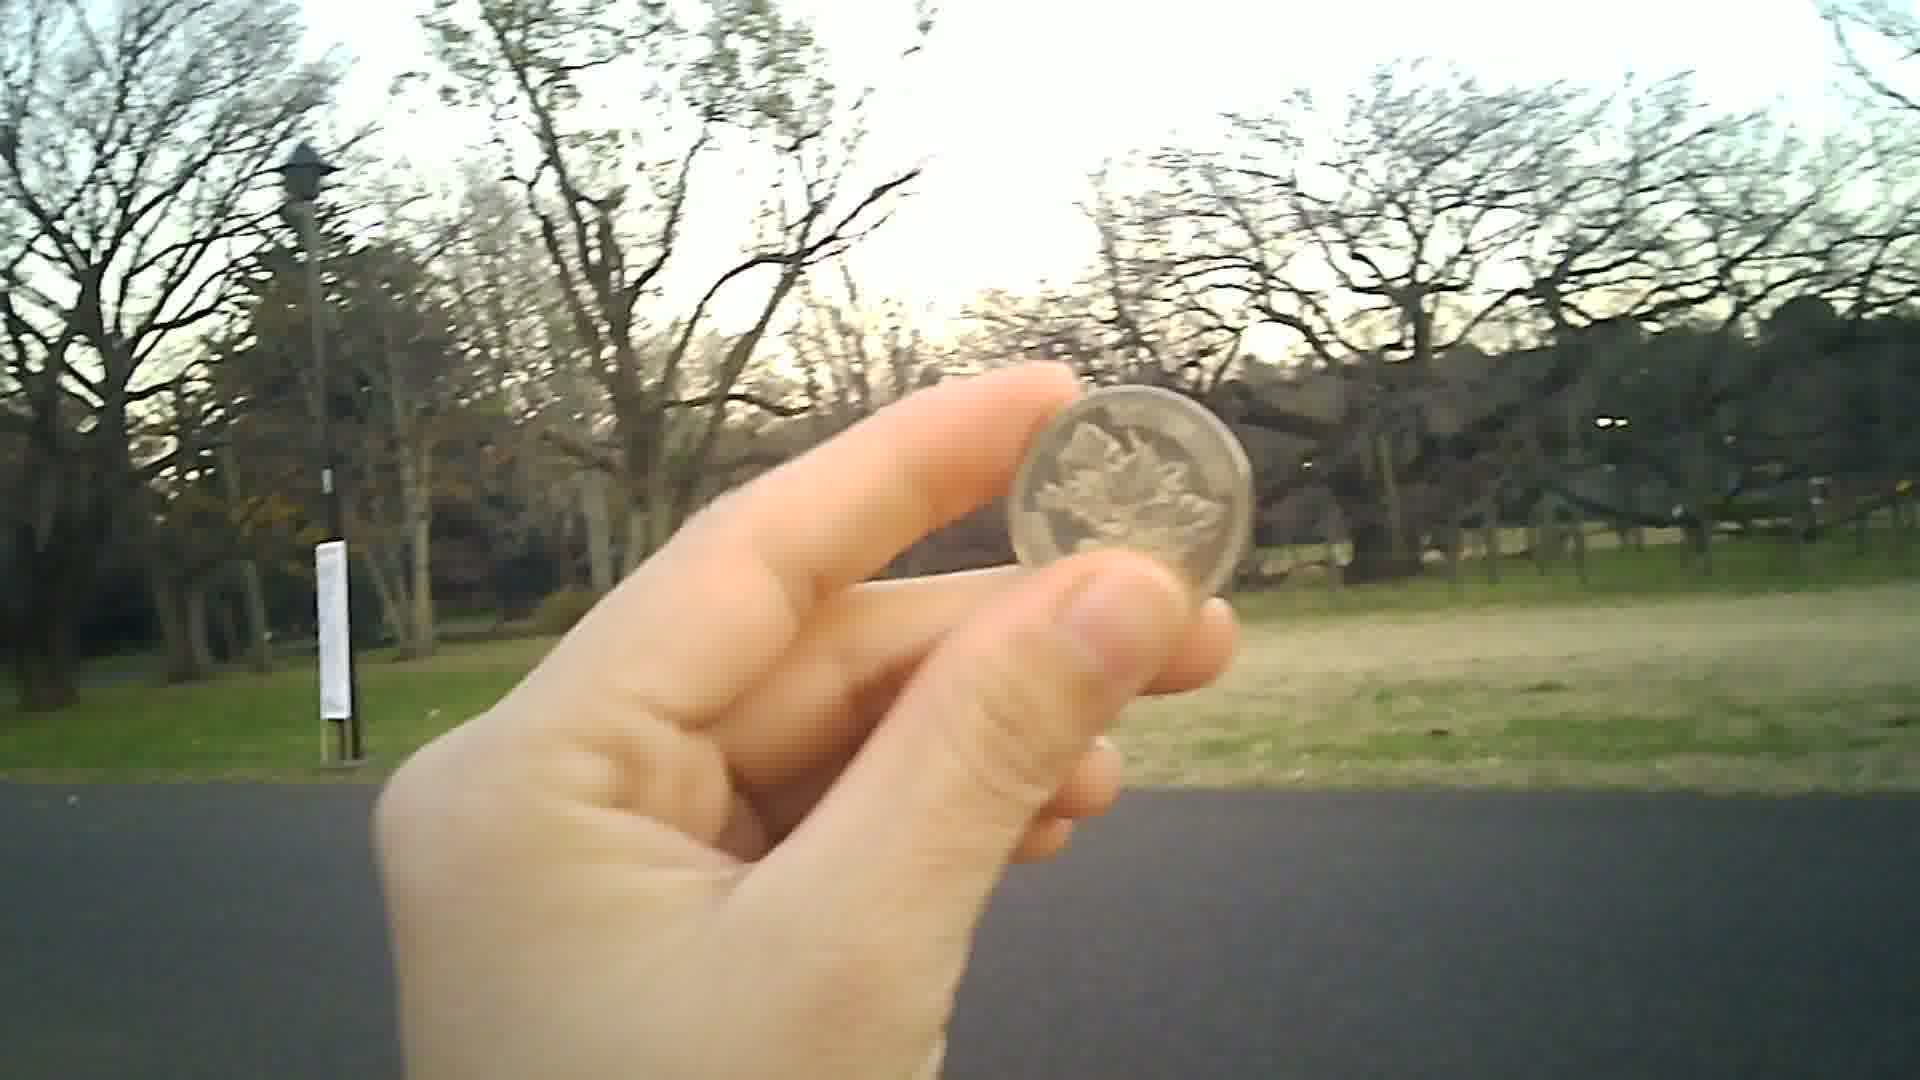500 Yen: (982, 375, 1265, 624)
